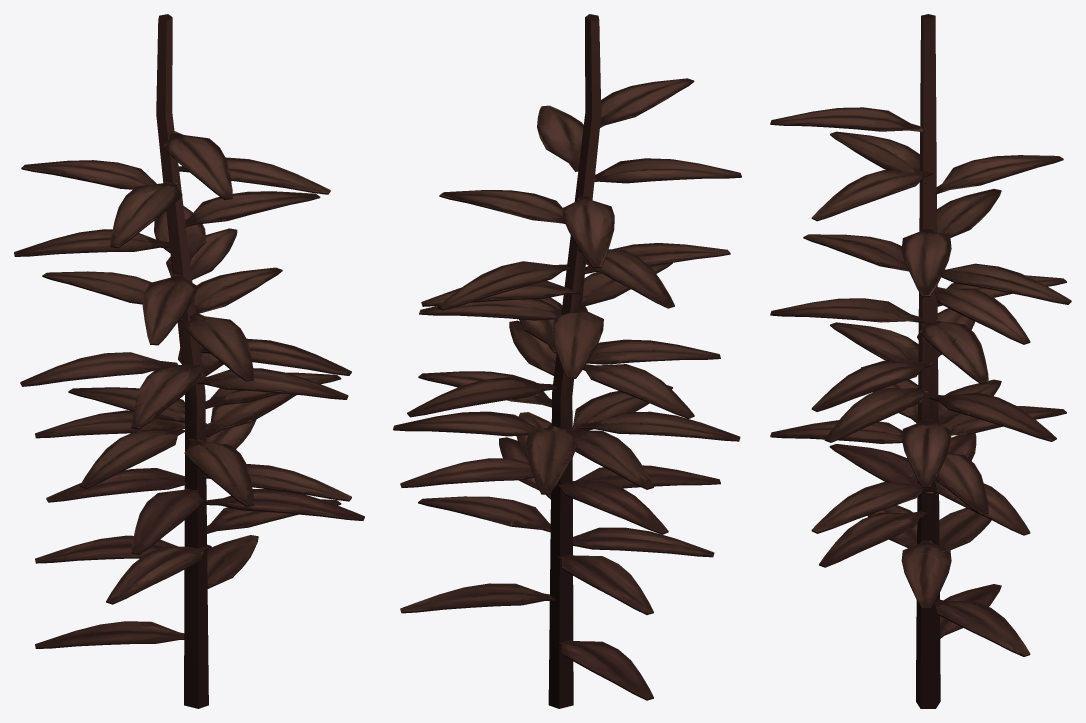
Rendered from Vines1_brown.obj.
3 renders of one model, left to right at view 1: azimuth 30°, elevation 25°; view 2: azimuth 150°, elevation 25°; view 3: azimuth 270°, elevation 25°, orthographic. The views are drawn at different scales.
Visible parts, largest first — view 1: group4_pCube9_initialShadingGroup; view 2: group4_pCube9_initialShadingGroup; view 3: group4_pCube9_initialShadingGroup.
Part boxes in pixels (x1,y1,x2,y2): group4_pCube9_initialShadingGroup: [14, 14, 364, 708]; group4_pCube9_initialShadingGroup: [393, 14, 741, 708]; group4_pCube9_initialShadingGroup: [770, 14, 1071, 708].
Bounding box in the file's own units: 2.09 × 4.69 × 1.9.
Materials: 1 (1 with a texture image).
